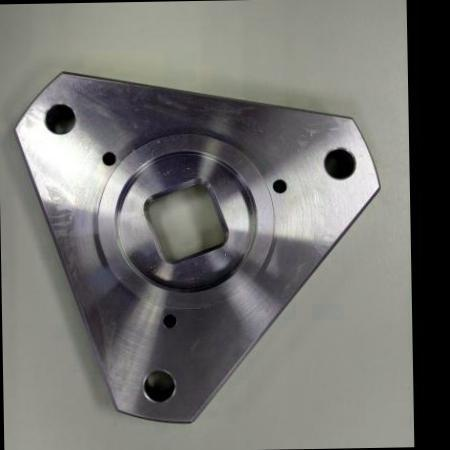hole: (138, 367, 180, 406), (38, 100, 80, 138), (320, 146, 359, 182), (270, 175, 290, 196), (98, 148, 118, 169), (158, 312, 180, 331)
